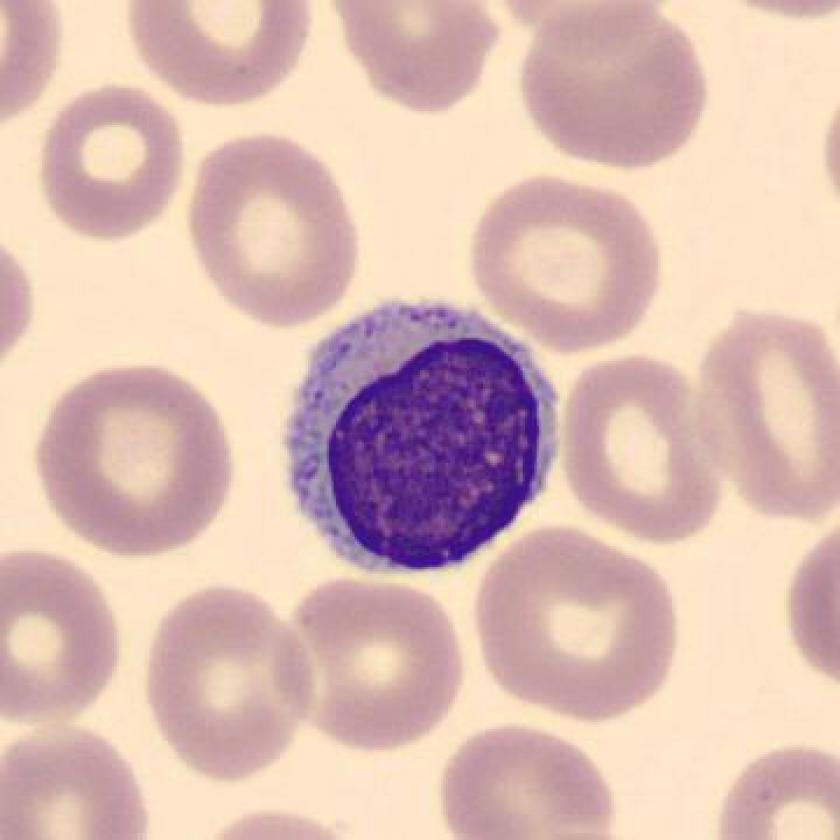lymphocyte: (270, 288, 571, 591)
